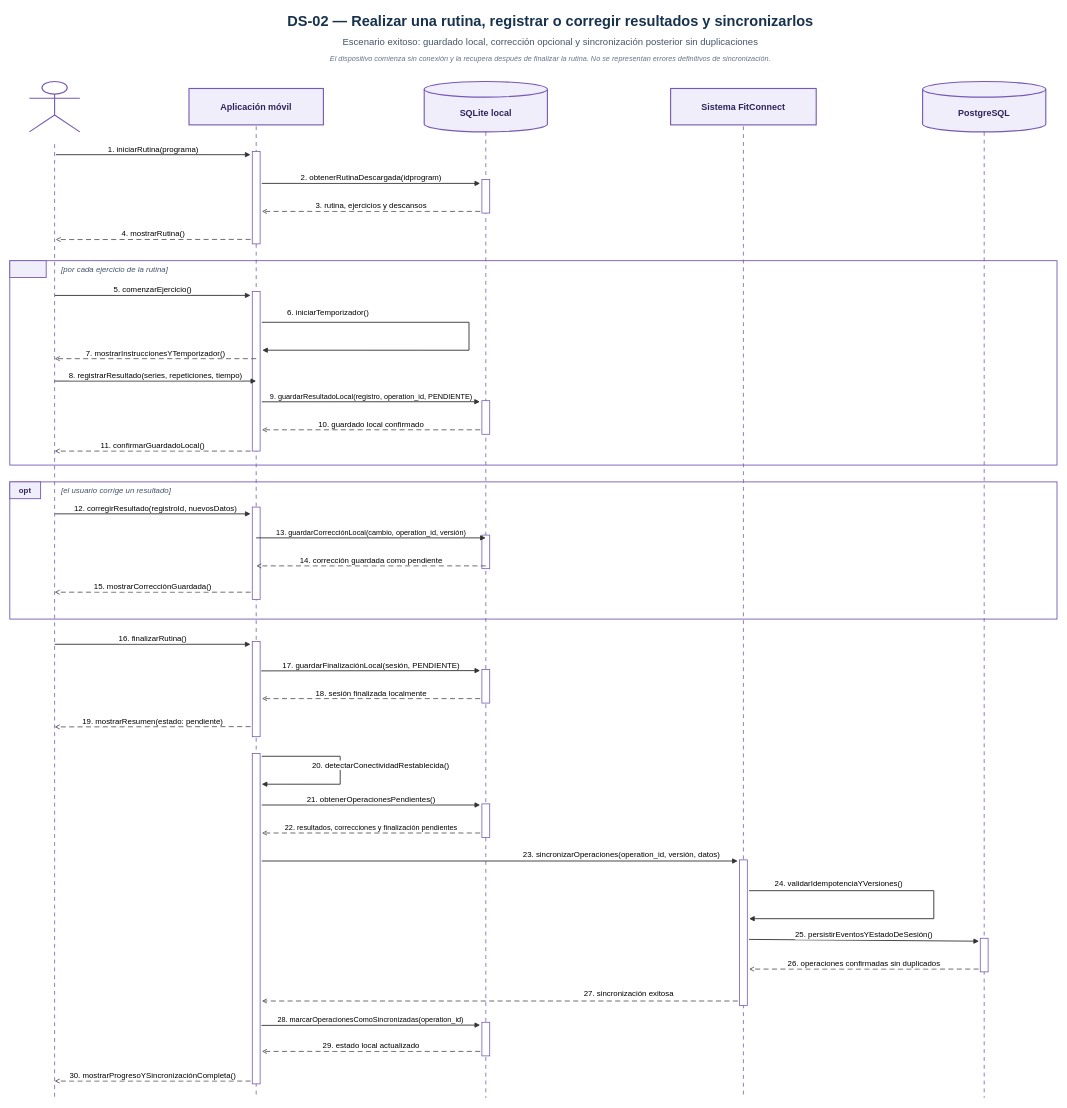
Some shapes in this 1067 by 1108 pixel diagram are drawn without their labels. Here are the shapes that lost their labels. From the top down, the centre of each, then its label:
At (x=54, y=106): "Usuario".
At (x=27, y=269): "loop".
